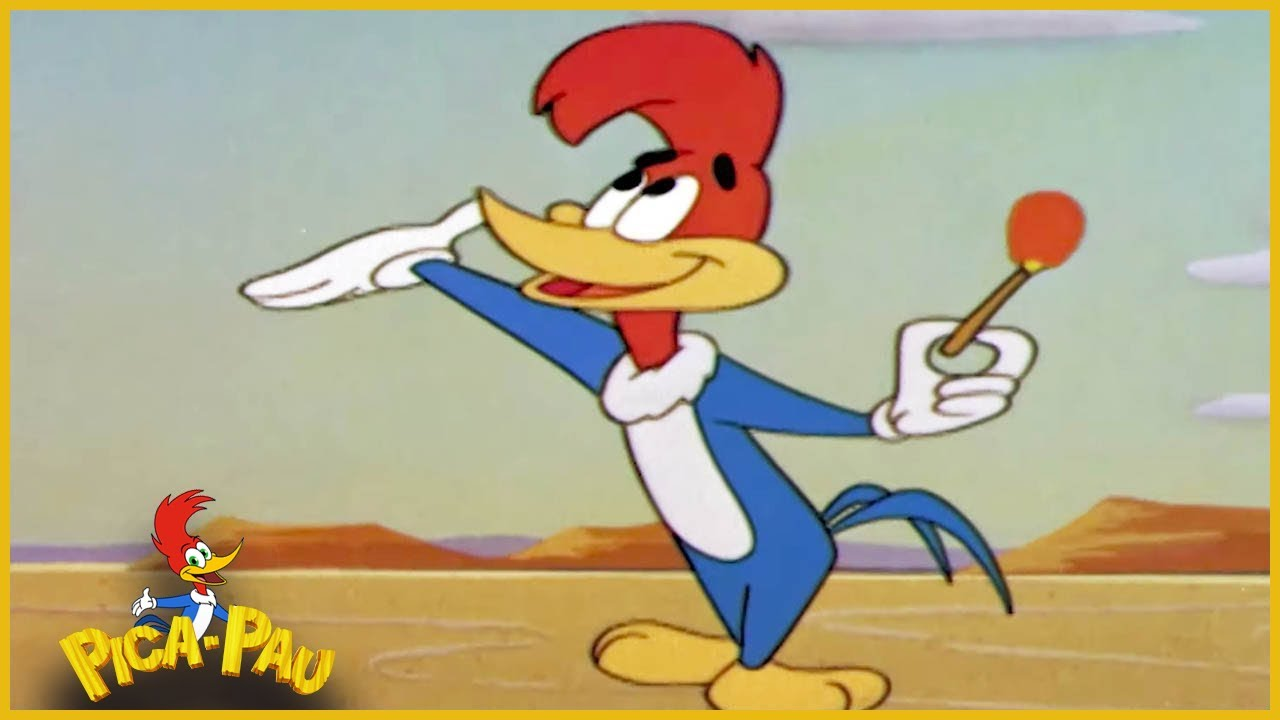picapau: (236, 11, 1108, 717)
